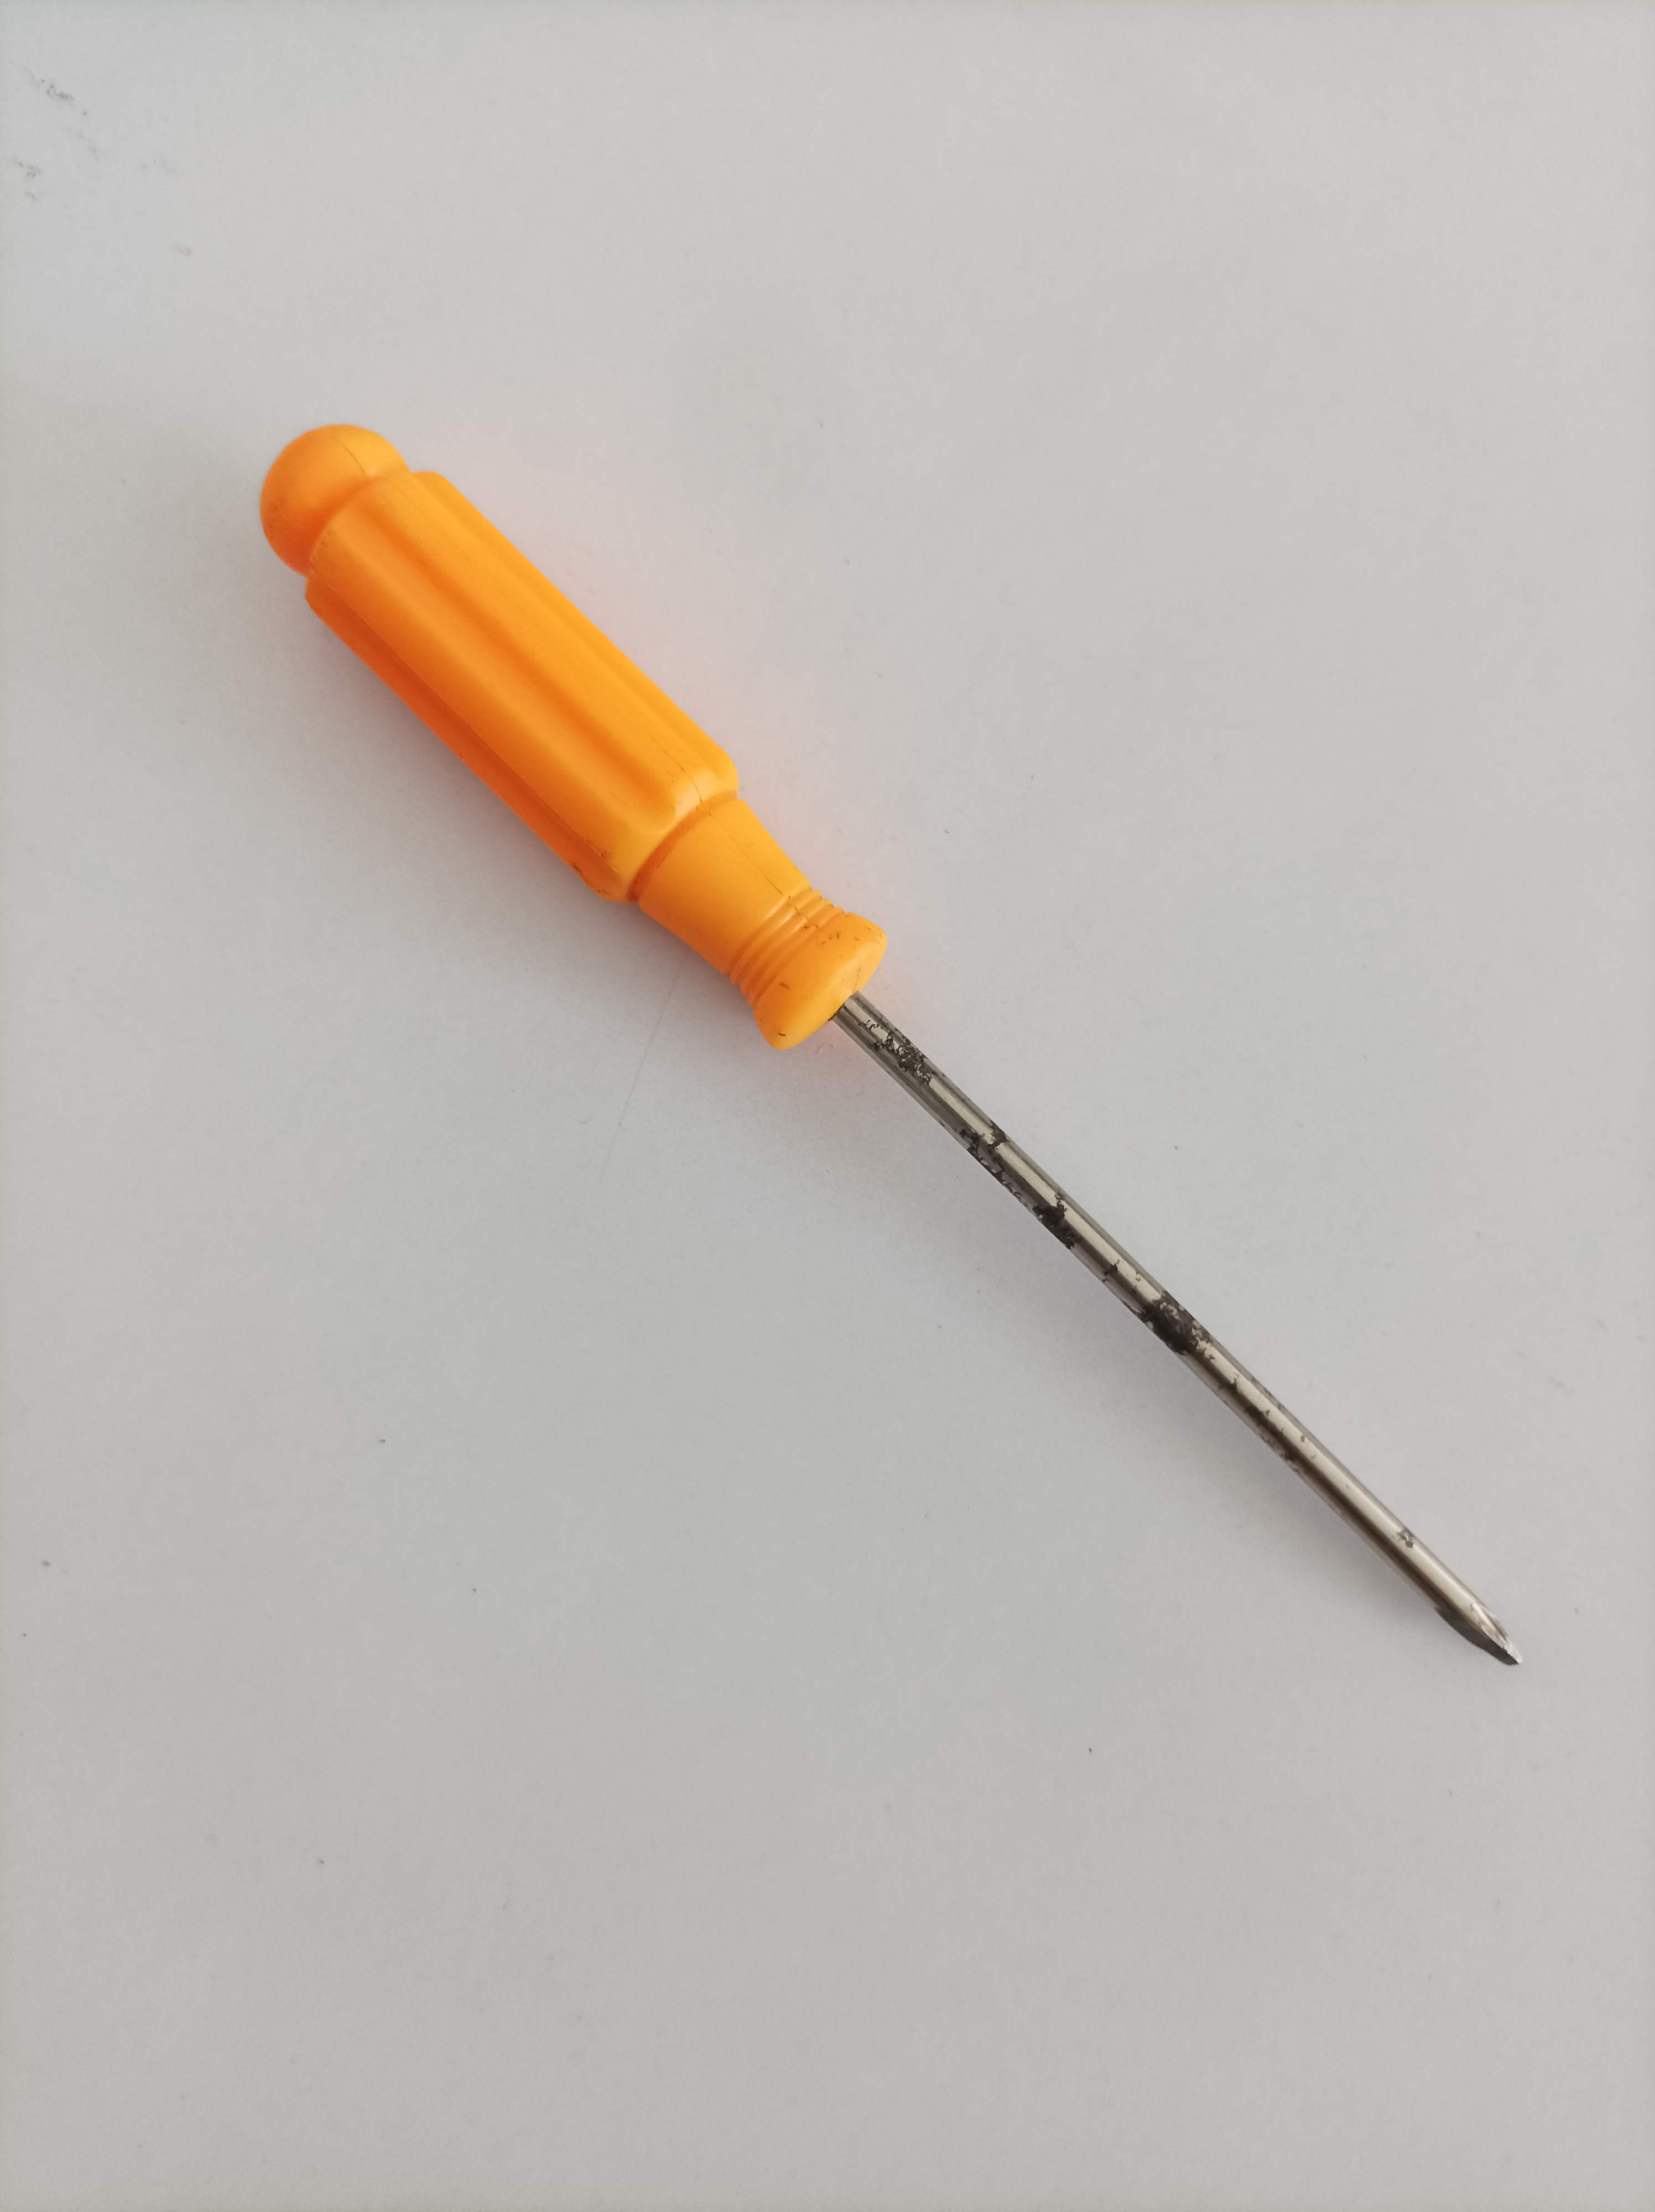screwdriver: (247, 412, 1540, 1685)
